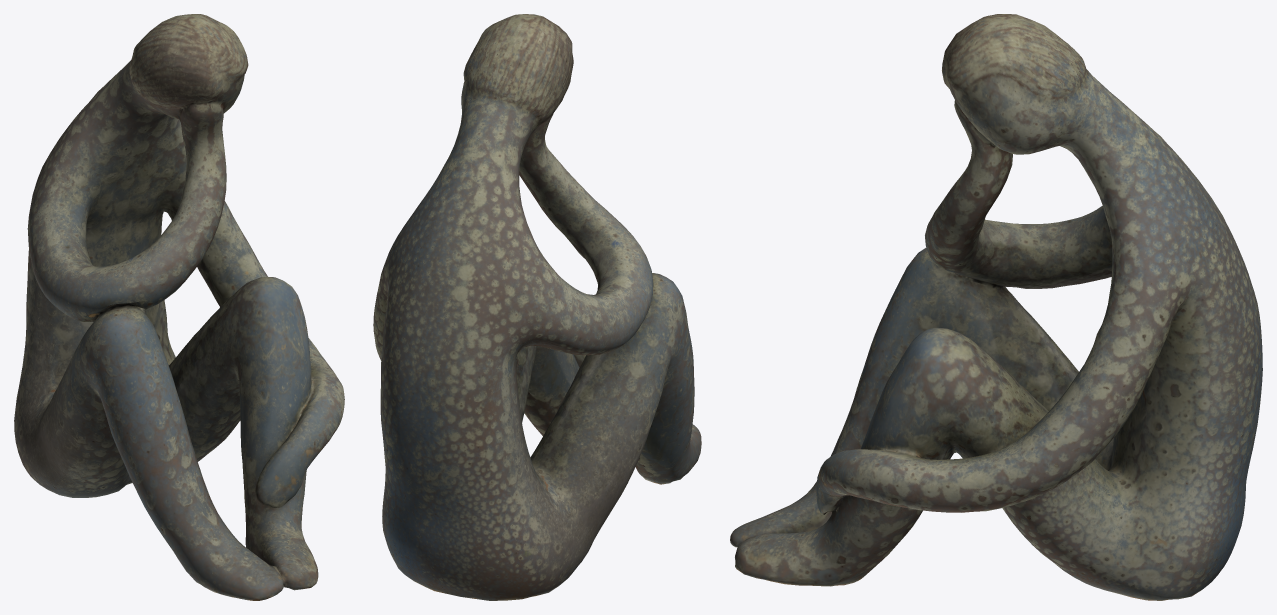
File: thinker_-_figurine.glb
3 views of the same model, side by side, from view 1: azimuth 30°, elevation 25°; view 2: azimuth 150°, elevation 25°; view 3: azimuth 270°, elevation 25° (orthographic). The views are drawn at different scales.
Visible parts, largest first — view 1: Object_2; view 2: Object_2; view 3: Object_2.
Boxes of the visible parts, box(x1,y1,x2,y2) form: Object_2: box(14, 14, 344, 600); Object_2: box(373, 14, 701, 600); Object_2: box(730, 14, 1262, 600).
Size of the model in its own units: 0.2268 by 0.4379 by 0.3785.
1 material, 1 textured.
